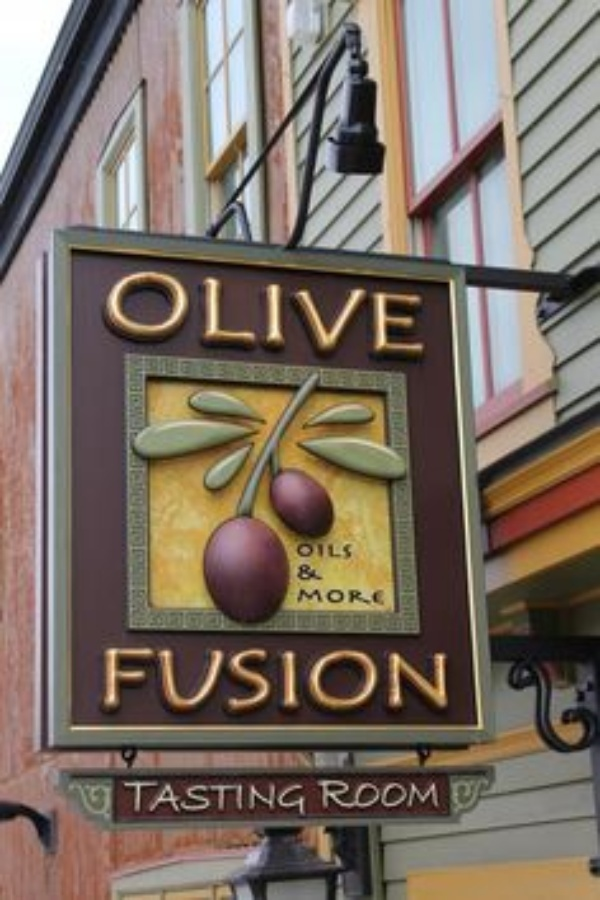text: (97, 265, 112, 367), (113, 265, 128, 367), (129, 265, 144, 367), (145, 265, 160, 367), (161, 265, 176, 367), (177, 265, 192, 367), (193, 265, 208, 367), (209, 265, 224, 367), (225, 265, 240, 367), (241, 265, 256, 367), (257, 265, 272, 367), (273, 265, 288, 367), (289, 265, 304, 367), (305, 265, 320, 367), (321, 265, 336, 367), (337, 265, 352, 367), (353, 265, 368, 367), (369, 265, 384, 367), (385, 265, 400, 367), (401, 265, 416, 367), (417, 265, 430, 367), (113, 641, 128, 715), (129, 641, 144, 715), (145, 641, 160, 715), (161, 641, 176, 715), (177, 641, 192, 715), (193, 641, 208, 715), (209, 641, 224, 715), (225, 641, 240, 715), (241, 641, 256, 715), (257, 641, 272, 715), (273, 641, 288, 715), (289, 641, 304, 715), (305, 641, 320, 715), (321, 641, 336, 715), (337, 641, 352, 715), (353, 641, 368, 715), (369, 641, 384, 715), (385, 641, 400, 715), (401, 641, 416, 715), (417, 641, 432, 715), (433, 641, 448, 715), (129, 781, 144, 817), (145, 781, 160, 817), (161, 781, 176, 817), (177, 781, 192, 817), (193, 781, 208, 817), (209, 781, 224, 817), (225, 781, 240, 817), (241, 781, 256, 817), (257, 781, 272, 817), (273, 781, 288, 817), (289, 781, 304, 817), (105, 641, 112, 715), (449, 641, 456, 715), (321, 778, 336, 812), (337, 778, 352, 812), (353, 778, 368, 812), (369, 778, 384, 812), (385, 778, 400, 812), (401, 778, 416, 812), (417, 778, 432, 812), (117, 781, 128, 817), (305, 562, 320, 583), (305, 585, 320, 606), (321, 585, 336, 606), (337, 585, 352, 606), (353, 585, 368, 606), (369, 585, 384, 606), (305, 542, 320, 560), (321, 542, 336, 560), (337, 542, 352, 560), (433, 778, 440, 812), (295, 562, 304, 583), (295, 585, 304, 606), (295, 542, 304, 560), (316, 778, 320, 812), (305, 781, 308, 817), (321, 562, 323, 583), (385, 585, 387, 606), (353, 542, 354, 560)
